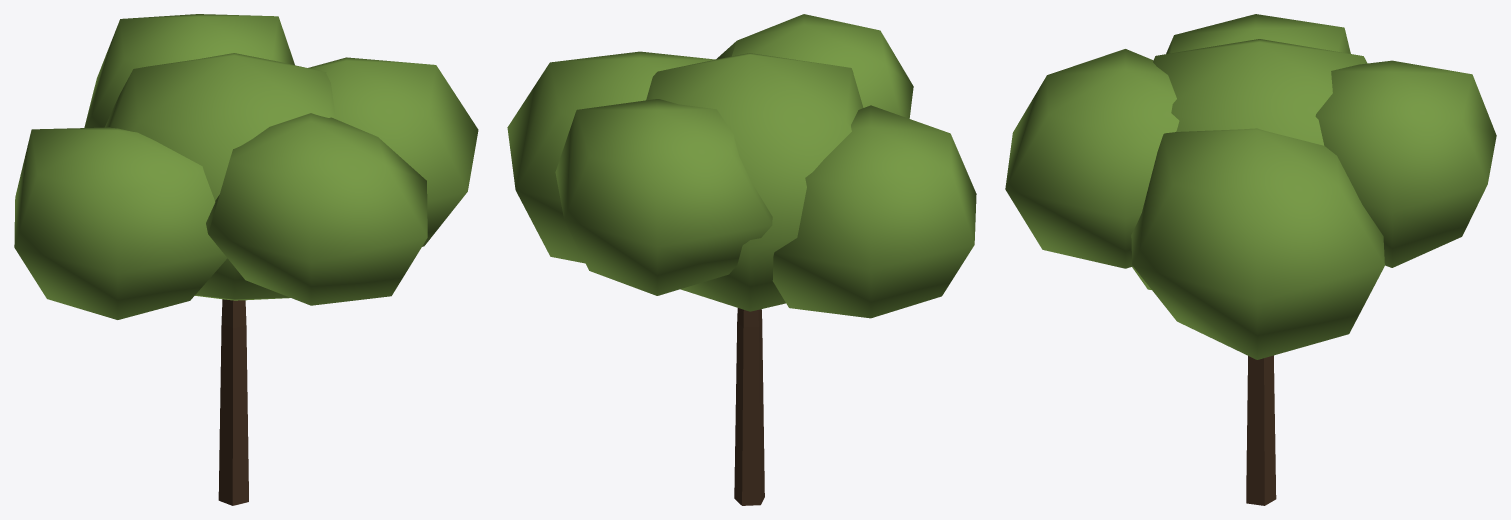
3 renders of one model, left to right at view 1: azimuth 30°, elevation 25°; view 2: azimuth 150°, elevation 25°; view 3: azimuth 270°, elevation 25°, orthographic. The views are drawn at different scales.
Parts seen in each view (by area): view 1: 树_03; view 2: 树_03; view 3: 树_03.
Boxes of the visible parts, x1=… form: 树_03: x1=14, y1=14, x2=478, y2=505; 树_03: x1=507, y1=14, x2=976, y2=505; 树_03: x1=1005, y1=14, x2=1496, y2=505.
Size of the model in its own units: 5.7 by 5.2 by 5.07.
